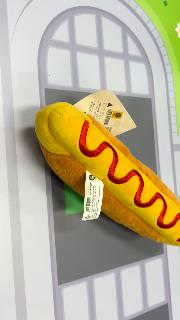hotdog: (34, 101, 180, 247)
